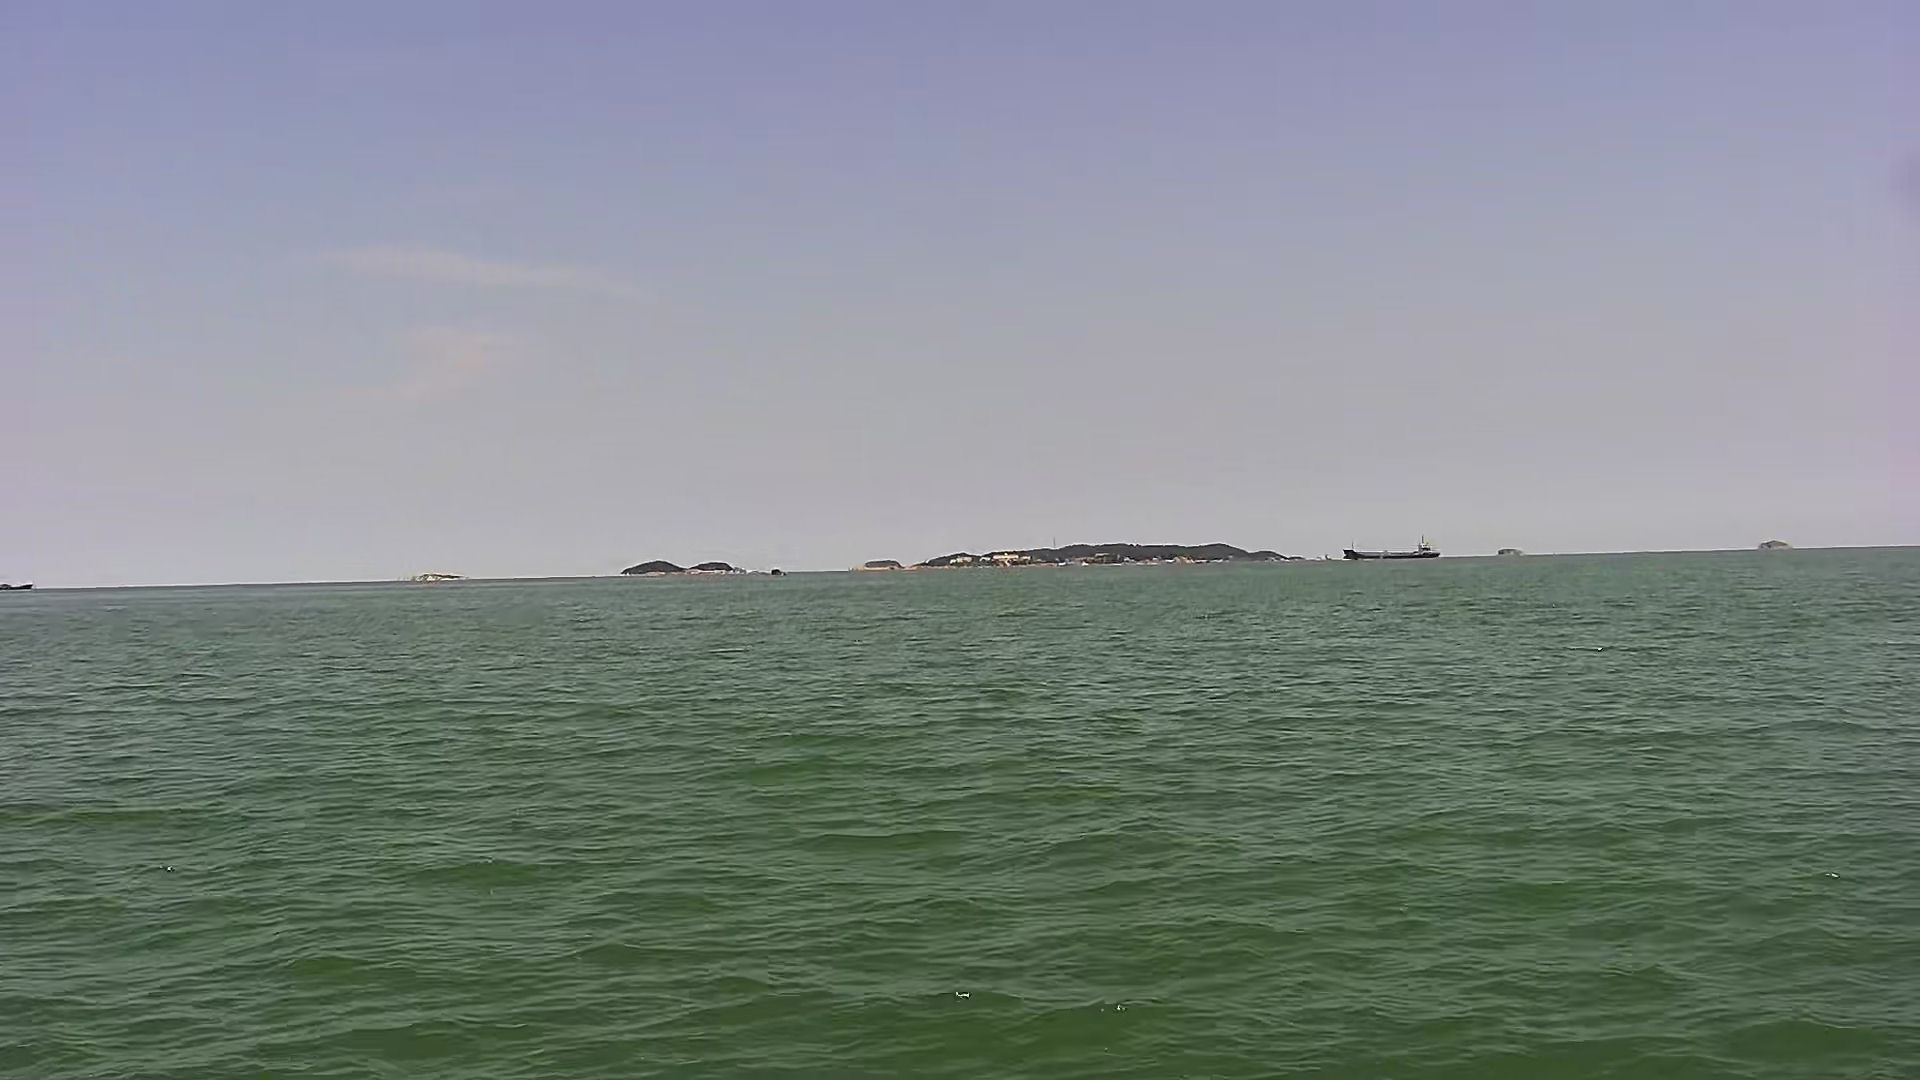rock: (861, 525, 1313, 568), (616, 550, 800, 583)
ship: (1338, 535, 1451, 563)
